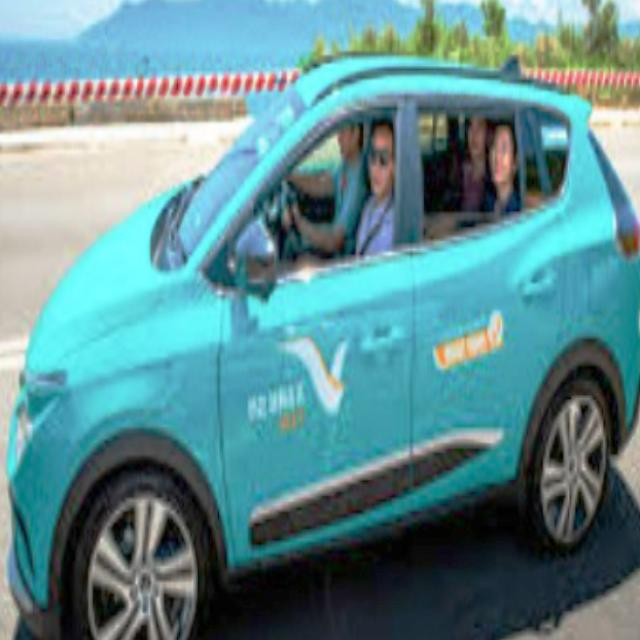Car: (4, 51, 640, 640)
